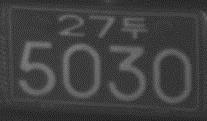0: (61, 42, 102, 100), (151, 47, 192, 104)
2: (57, 12, 86, 37)
3: (107, 44, 147, 102)
5: (17, 40, 56, 97)
7: (88, 14, 116, 39)
두: (120, 16, 149, 39)
